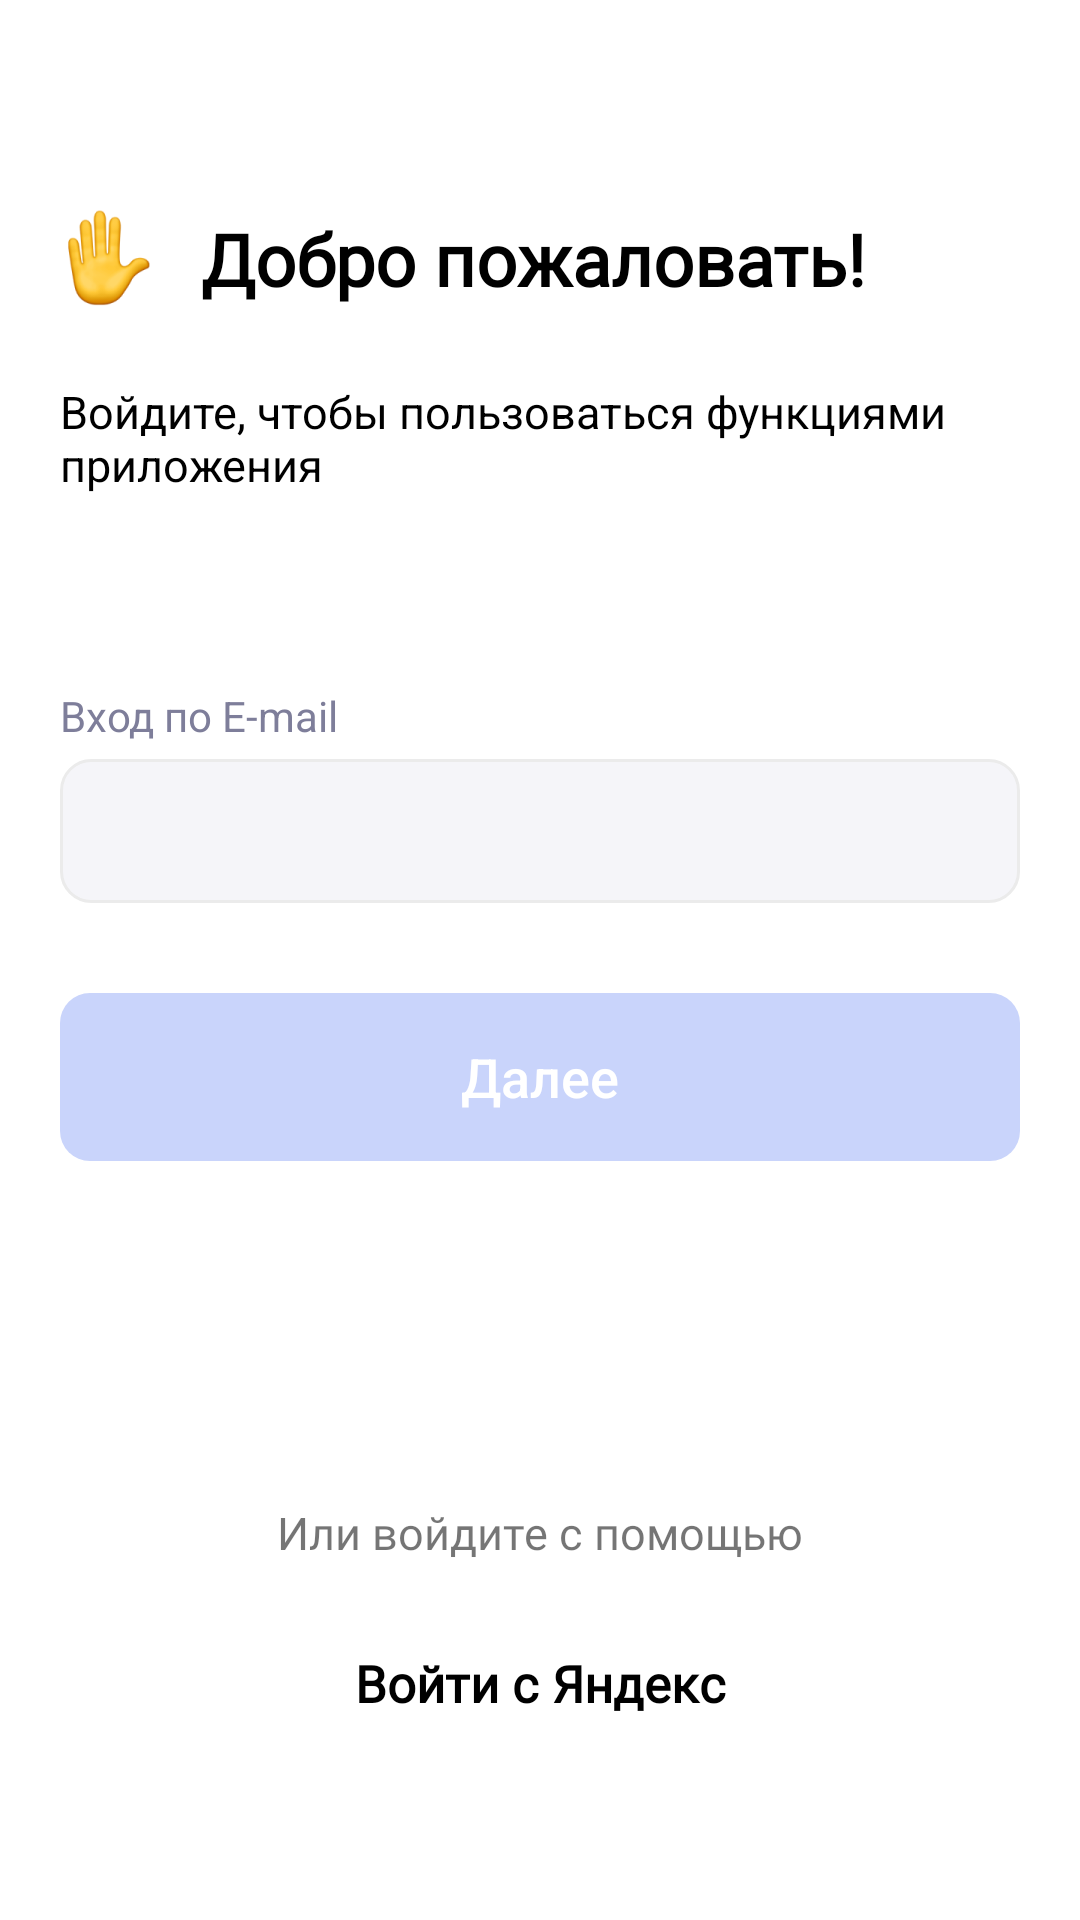

Icons on this 1080px x 1920px Android screen, each with the point to tap as point (x, y):
hello: point (109, 257)
